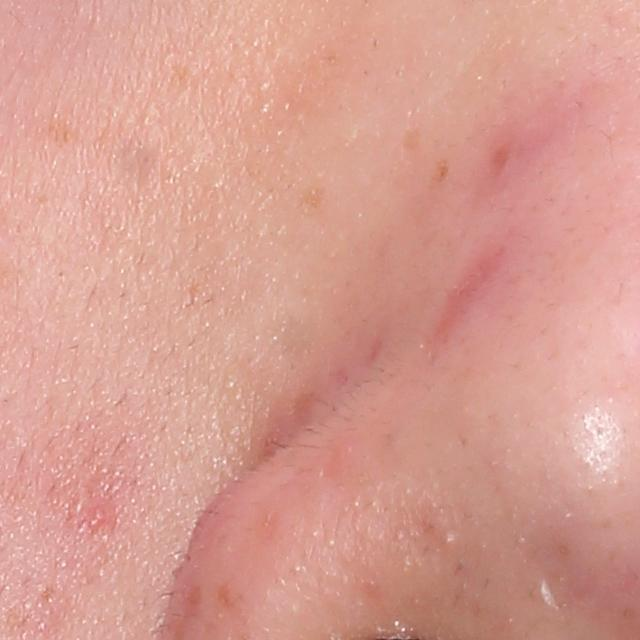comedo: (440, 532, 458, 548)
melasma: (301, 185, 328, 216)
other: (531, 537, 578, 626)
